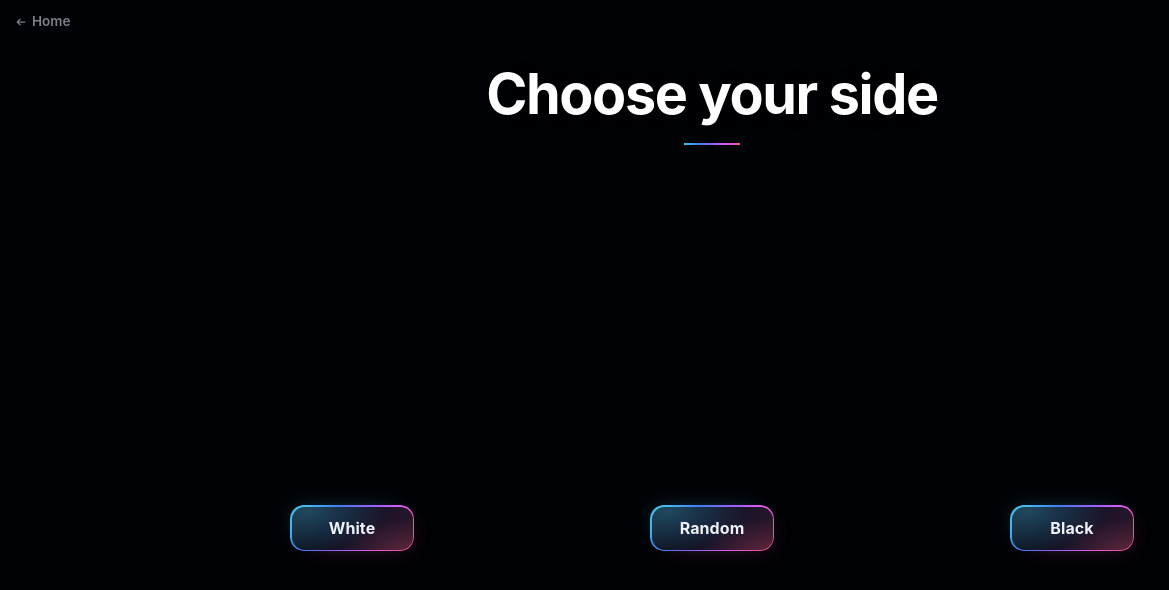
Test case: choosing a side › answers a pick of Black in its heading at once
The width and height of the screenshot is (1169, 590).
expect the heading reads "Choose your side": met, box [486, 60, 938, 127]
Click the button "Black": [1072, 528] box [1010, 505, 1134, 551]
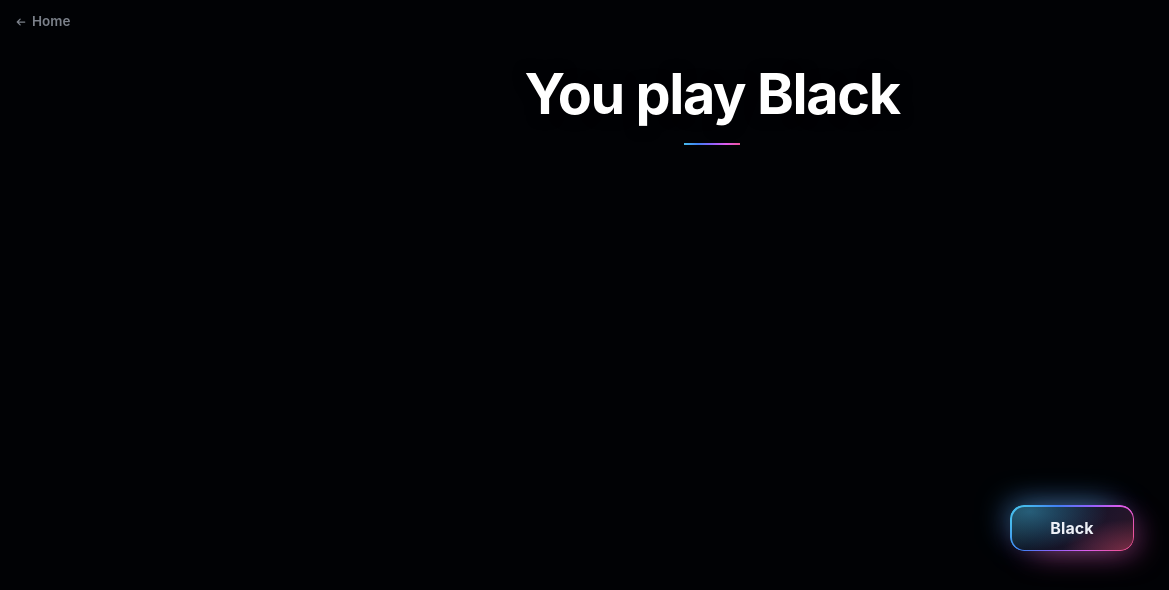
expect the heading reads "You play Black": met, box [524, 60, 900, 127]
